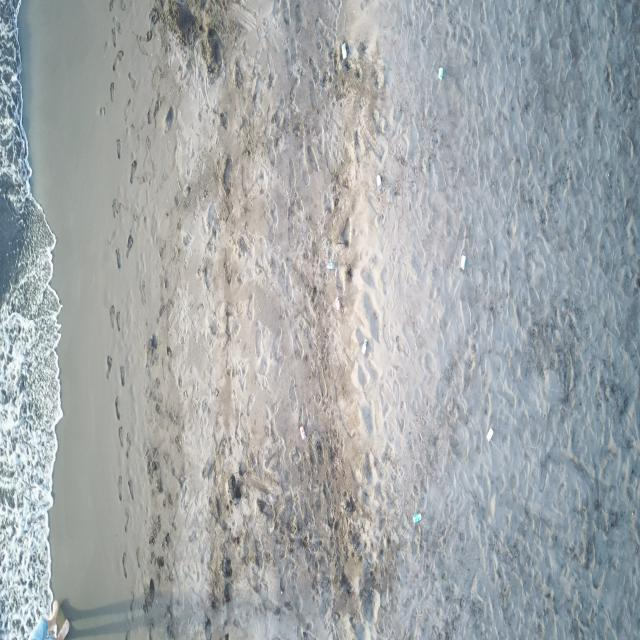tin-and-aluminum-cans: (486, 428, 494, 442), (361, 338, 368, 354), (413, 512, 422, 524), (341, 42, 347, 58), (376, 174, 382, 190), (300, 425, 306, 440), (461, 254, 466, 271), (438, 67, 444, 81), (335, 296, 341, 310), (327, 262, 334, 270)
